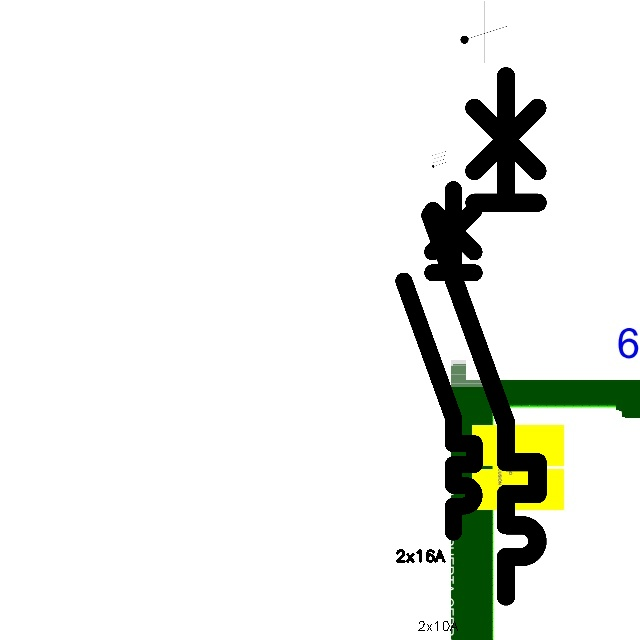interruptor_termomagnetico: (417, 62, 551, 609), (395, 180, 483, 540)
